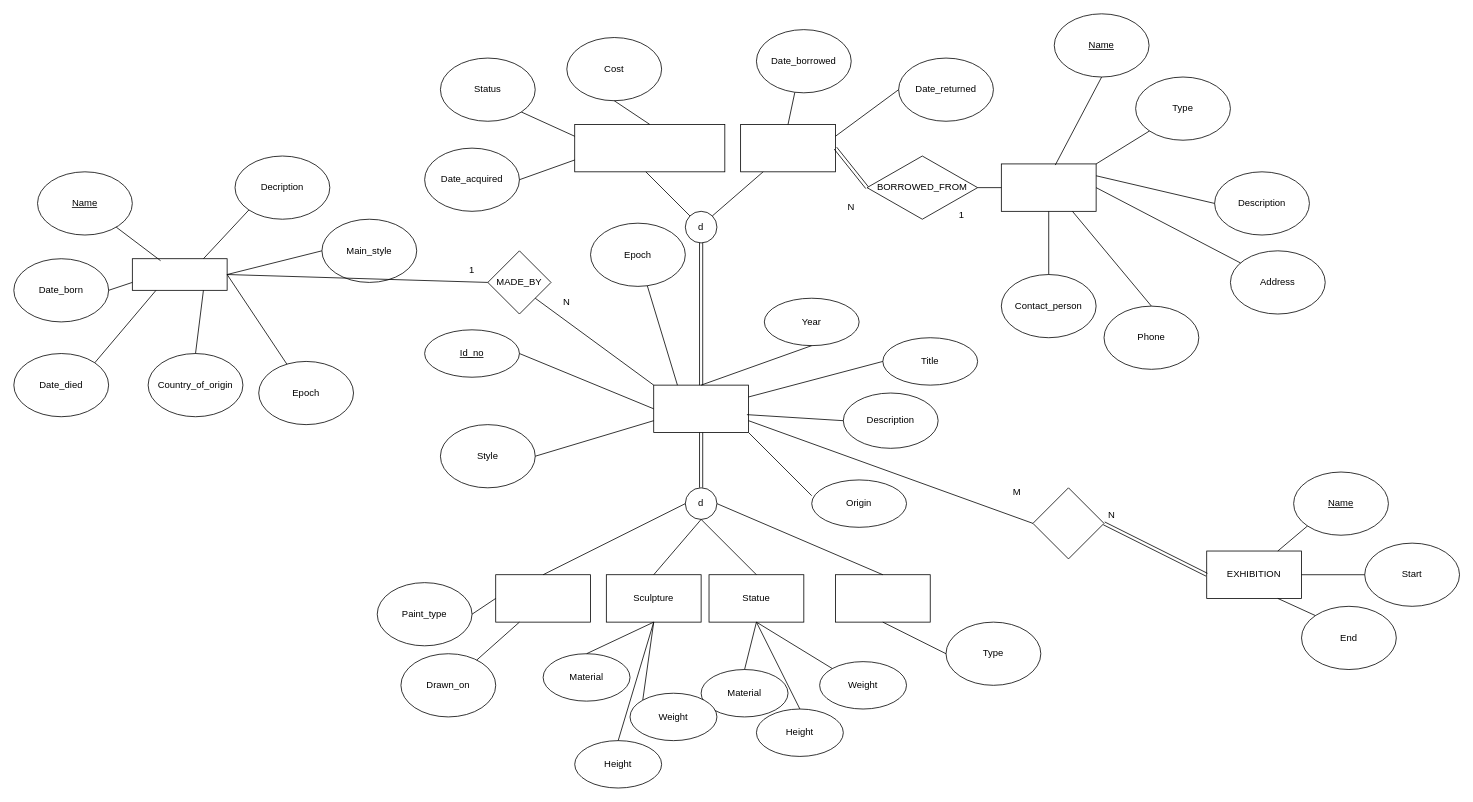
This 1473x802 diagram has some shape labels left out. Each missing label, with the centre of its shape:
"ART_OBJECT" goes at (x=701, y=408).
"ARTIST" goes at (x=179, y=274).
"BORROWED" goes at (x=787, y=148).
"COLLECTION" goes at (x=1048, y=187).
"ON_DISPLAY" goes at (x=1068, y=523).
"Other" goes at (x=882, y=598).
"Painting" goes at (x=543, y=598).
"PERMANENT_COLLECTION" goes at (x=649, y=148).
